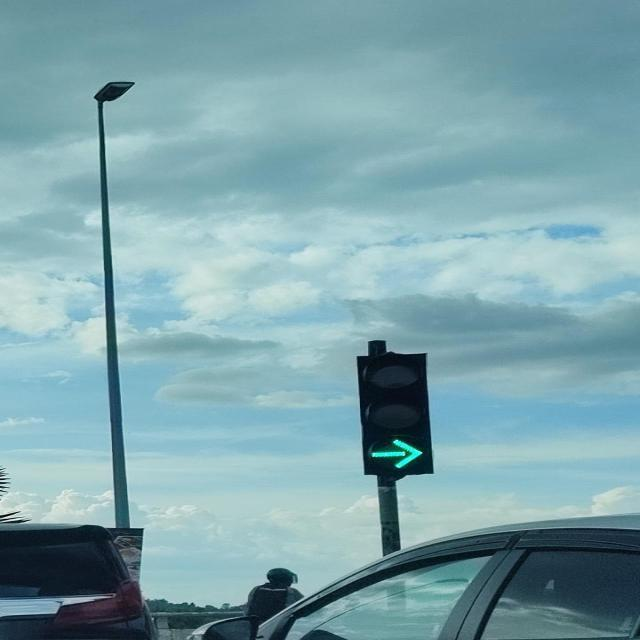green_light: (362, 353, 434, 474)
